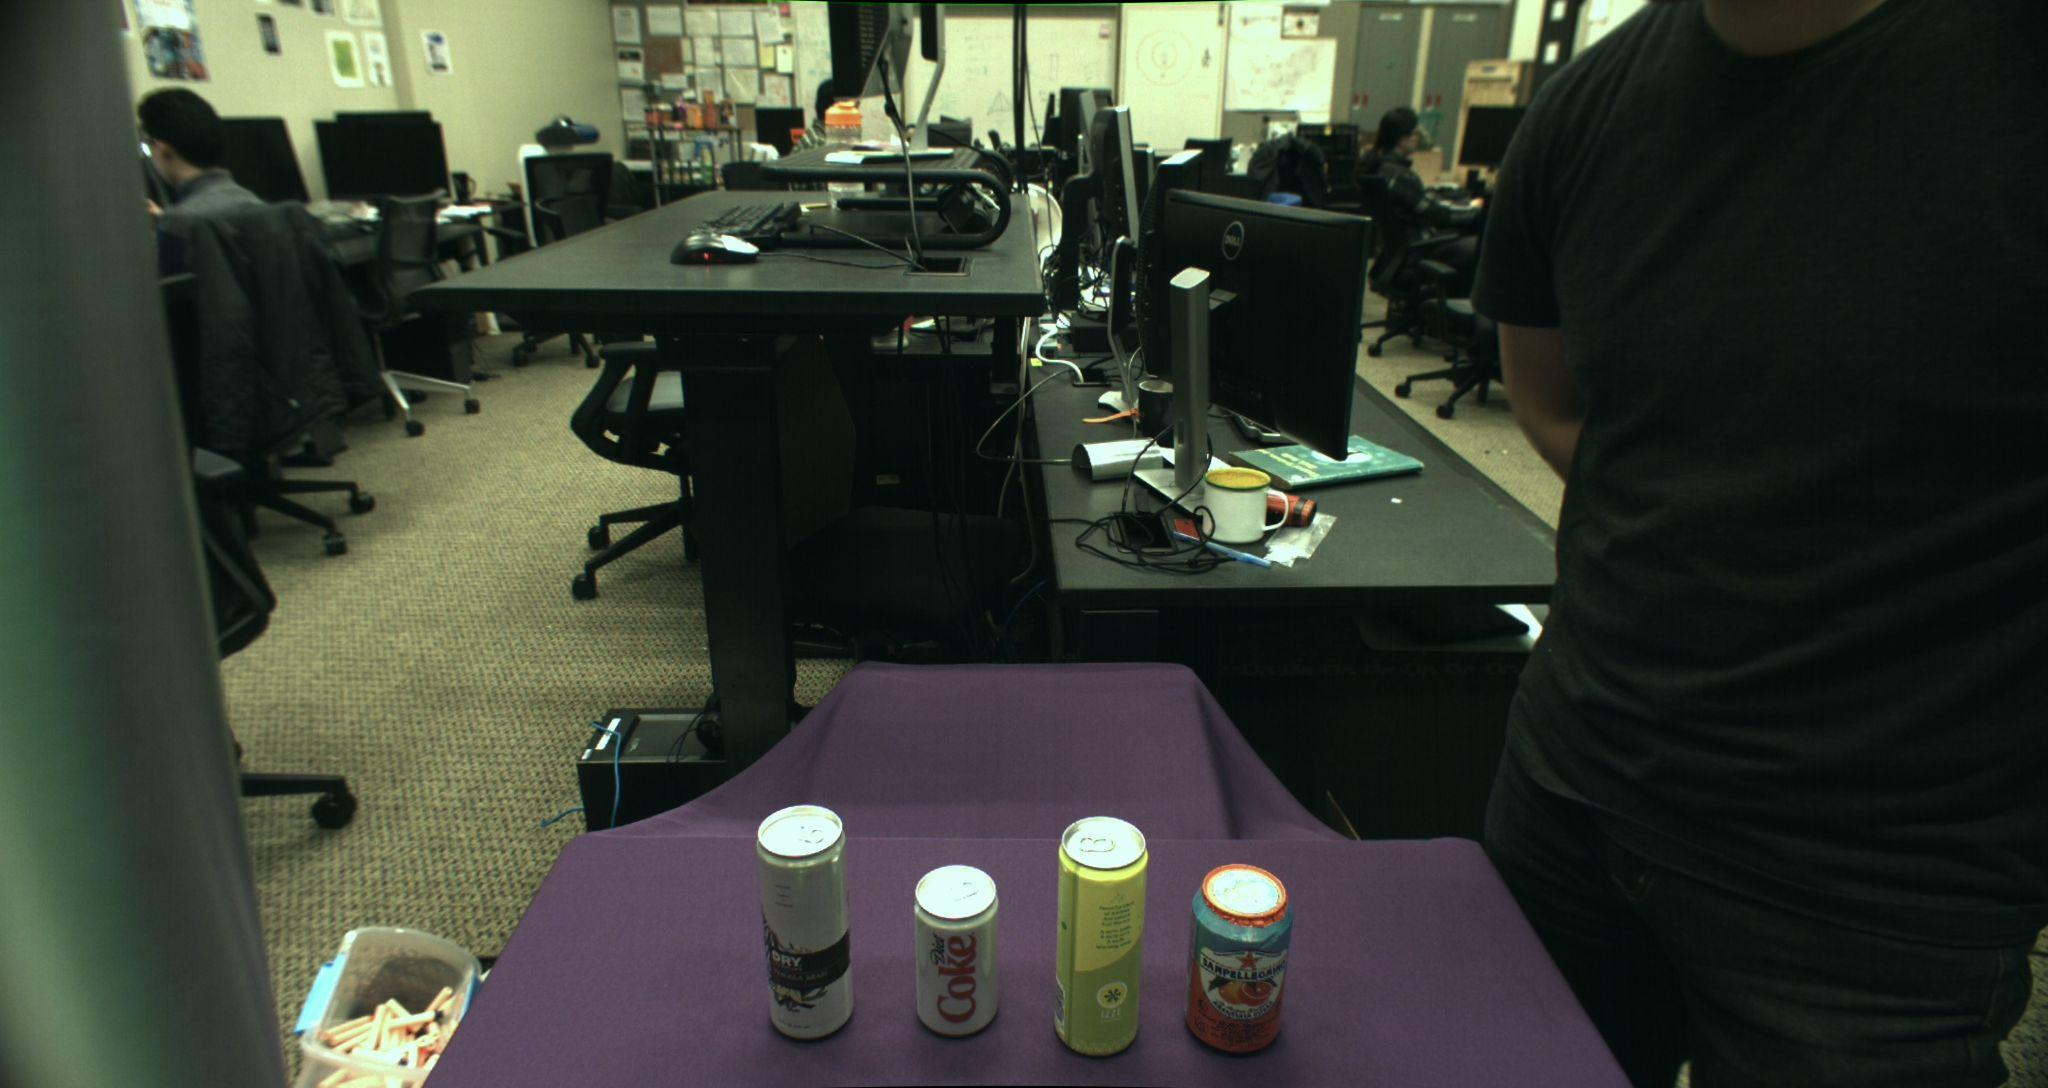can_diet_coke_small: (913, 864, 1000, 1038)
can_dry_sparkling_vanilla_bean: (756, 803, 853, 1041)
can_izze_fusions_lemon_lime: (1052, 816, 1149, 1055)
can_sanpellegrino_blood_orange: (1182, 863, 1294, 1055)
